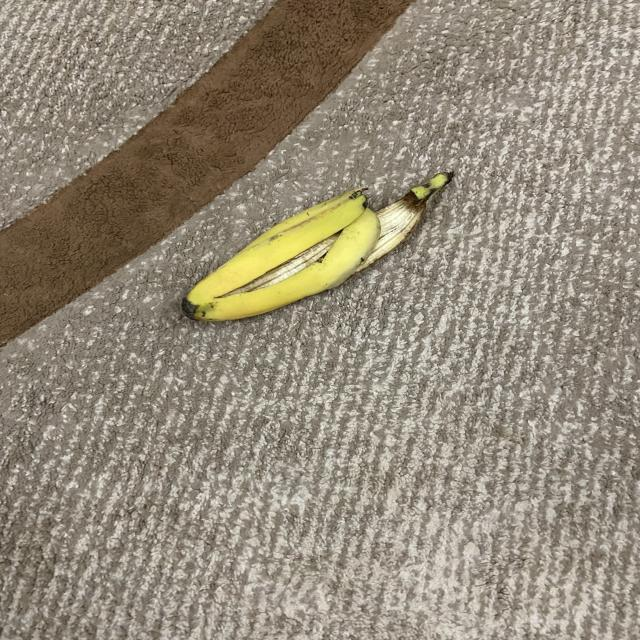banana-peel: (180, 169, 453, 323)
